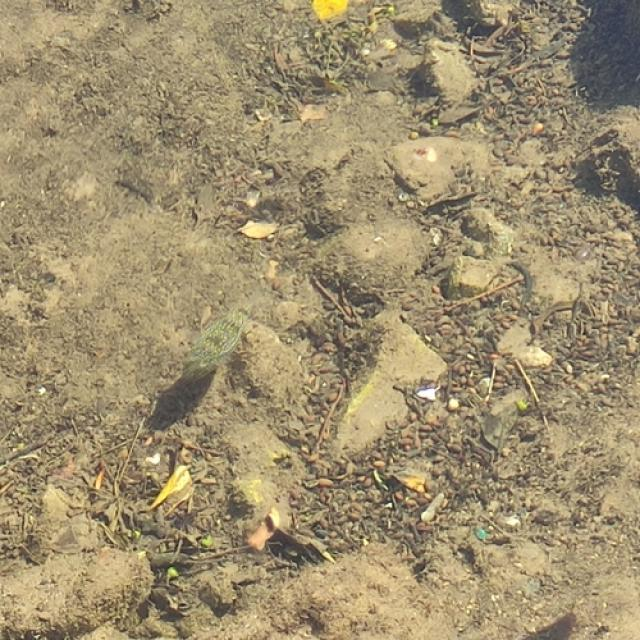Balik: (184, 311, 246, 379)
